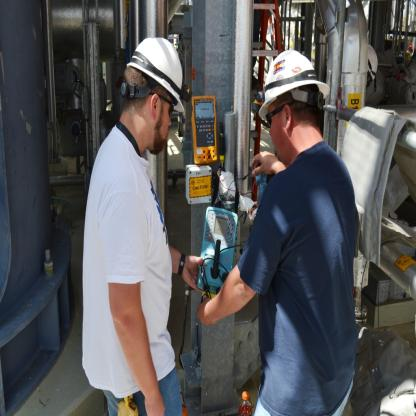Helmet: (119, 37, 183, 152), (254, 40, 330, 130), (350, 46, 385, 89)
